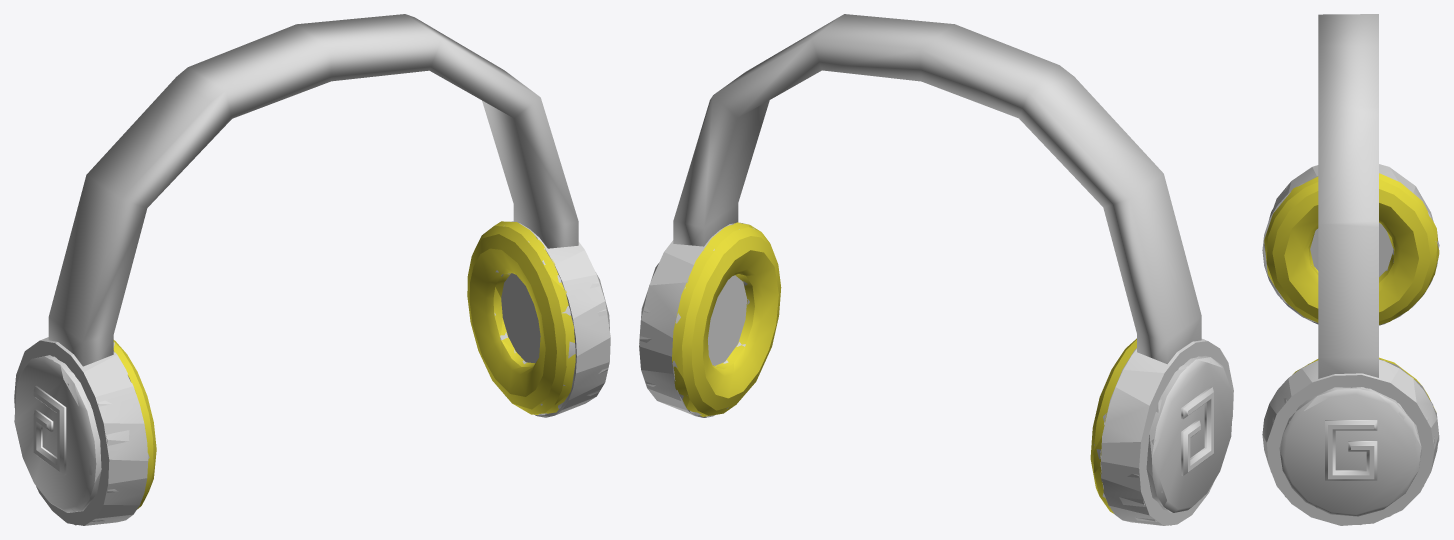
File: headphones_02.fbx
3 renders of one model, left to right at view 1: azimuth 30°, elevation 25°; view 2: azimuth 150°, elevation 25°; view 3: azimuth 270°, elevation 25°, orthographic. The views are drawn at different scales.
Visible parts, largest first — view 1: Cube, Text.001; view 2: Cube, Text.001; view 3: Cube, Text.
Part boxes in pixels (box(x1,y1,x2,y2)): Cube: box(14, 14, 610, 525); Text.001: box(33, 385, 66, 475); Cube: box(639, 14, 1233, 525); Text.001: box(1181, 386, 1213, 475); Cube: box(1262, 14, 1439, 525); Text: box(1325, 420, 1377, 480).
Size of the model in its own units: 617 by 474 by 202.
